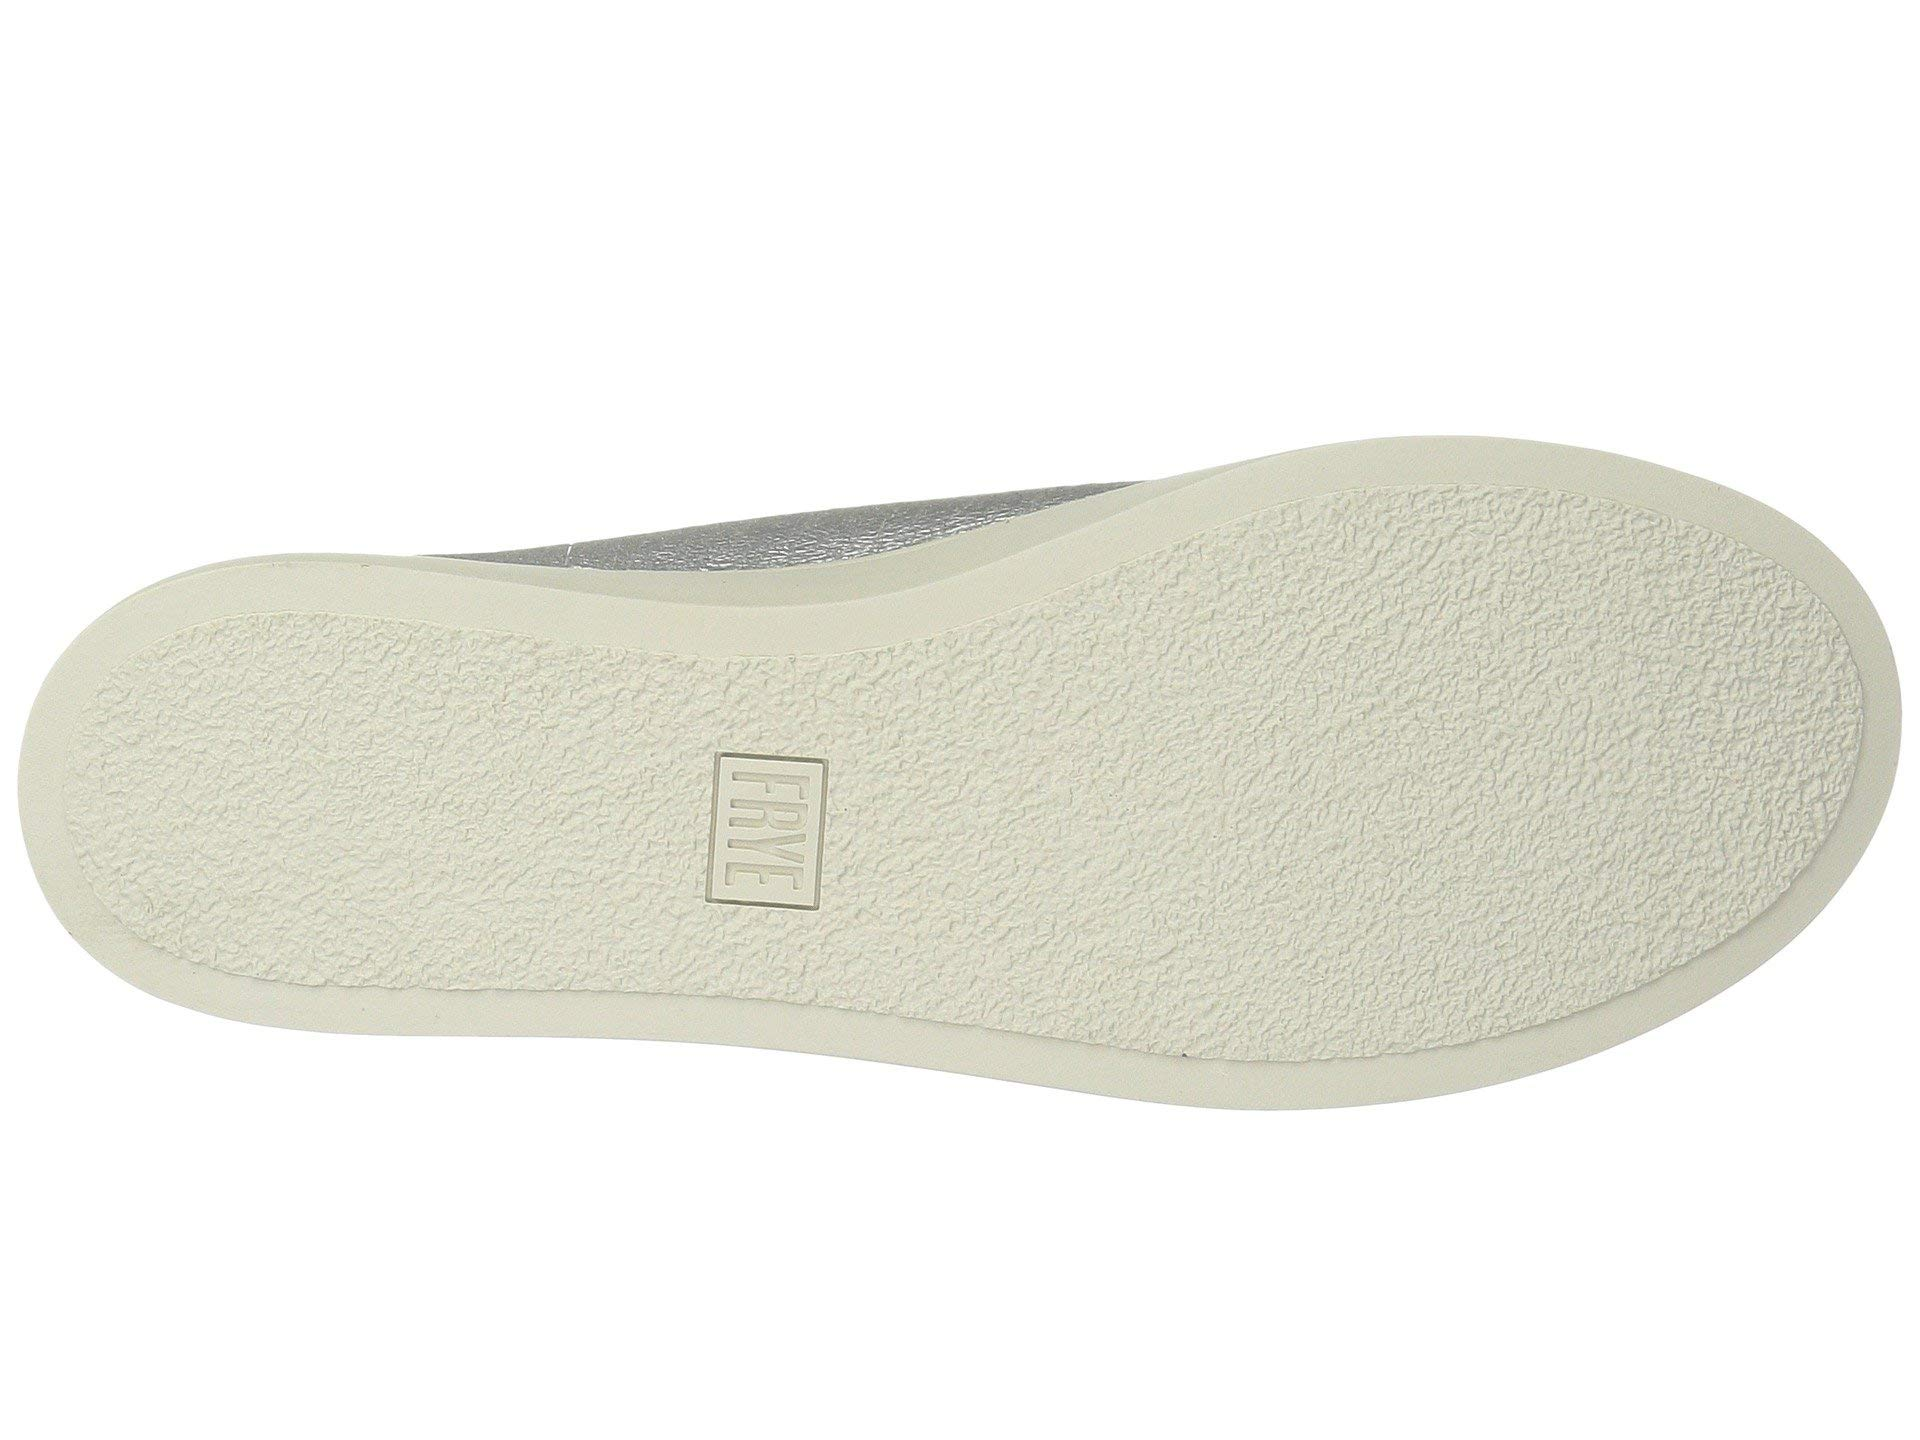quad: (677, 746, 853, 923)
text: (677, 746, 853, 923)
